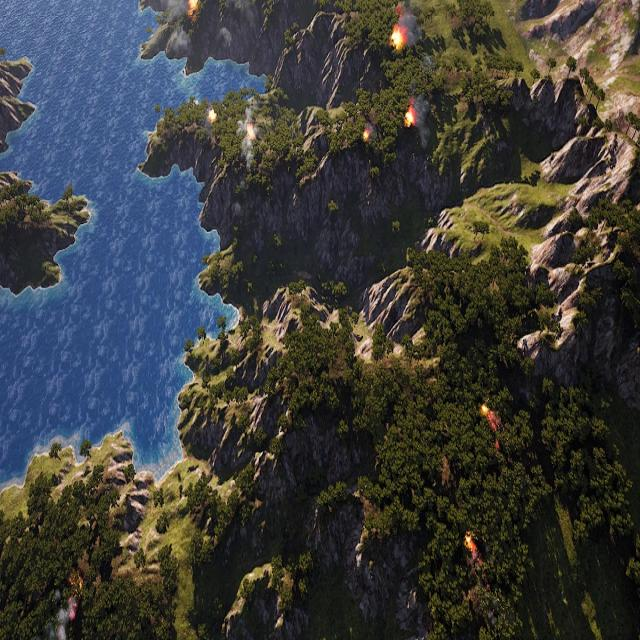fire: (482, 398, 501, 453), (464, 529, 486, 576), (404, 102, 418, 135), (186, 0, 201, 22), (390, 26, 404, 49), (208, 109, 218, 125), (248, 122, 256, 140), (365, 130, 370, 144)
smoke: (166, 0, 194, 67), (236, 112, 258, 176), (53, 591, 77, 640), (398, 0, 420, 47)
